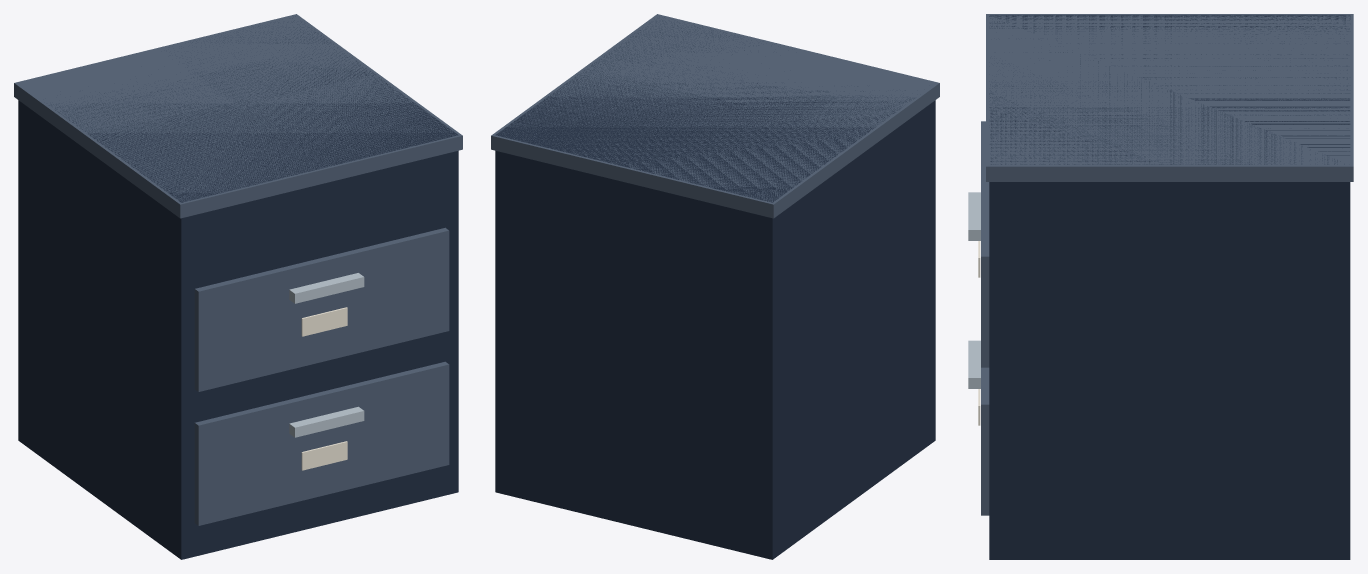
The model's file is officeLowFiling.glb.
3 renders of one model, left to right at view 1: azimuth 30°, elevation 25°; view 2: azimuth 150°, elevation 25°; view 3: azimuth 270°, elevation 25°, orthographic. The views are drawn at different scales.
Size of the model in its own units: 0.53 by 0.64 by 0.566.
